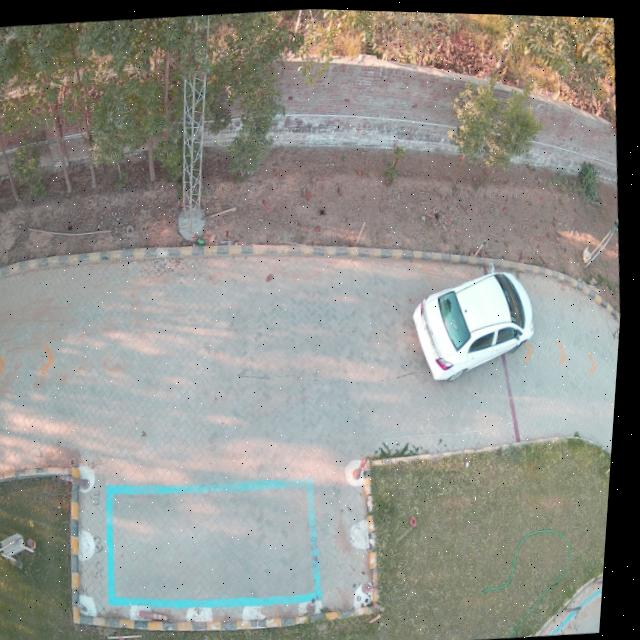car: (417, 267, 538, 378)
